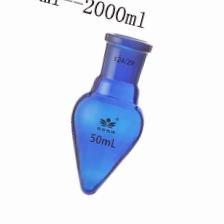Pear shaped flask: (63, 17, 148, 194)
